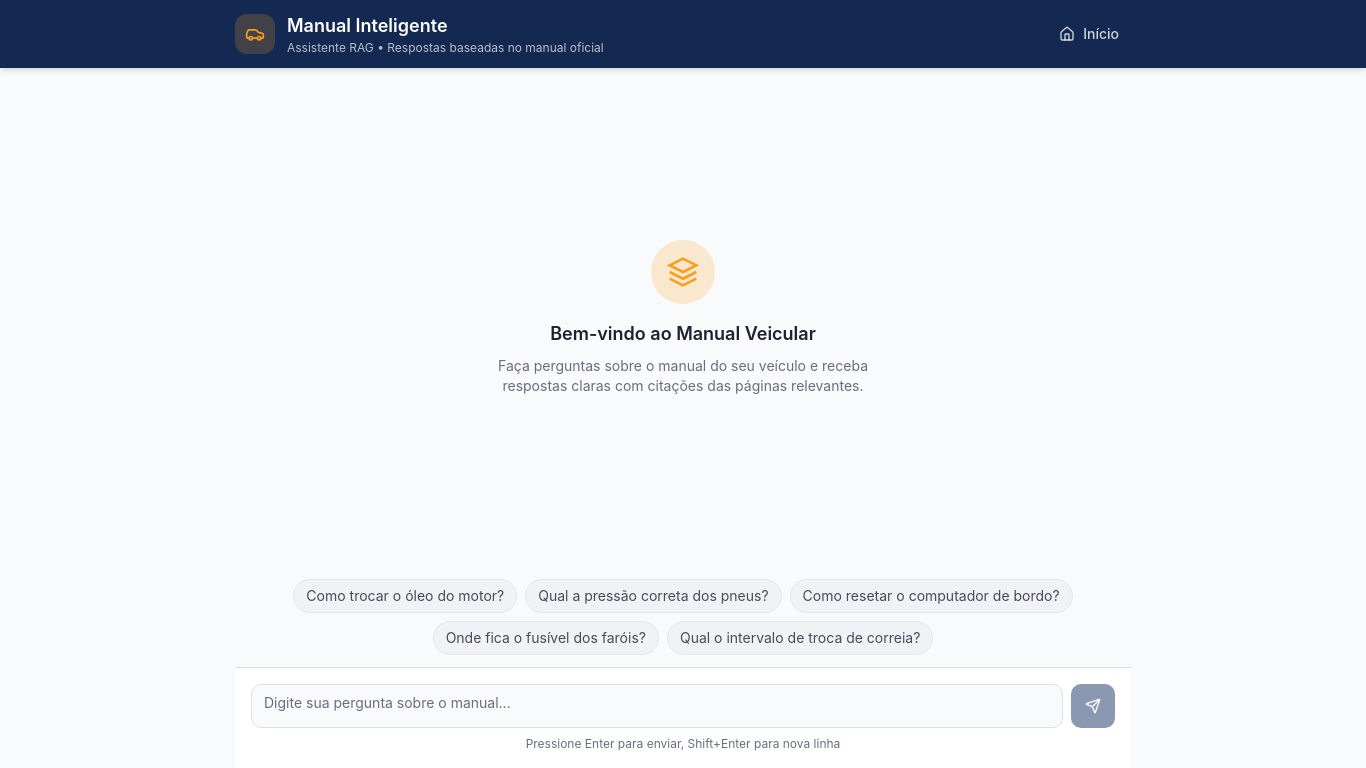
Scenario: ChatPage (integration) › shows error UI when API throws
Type "Qualquer pergunta" into the text box with placeholder "Digite sua pergunta sobre o manual..." at [657, 706], box [251,684,1063,728]
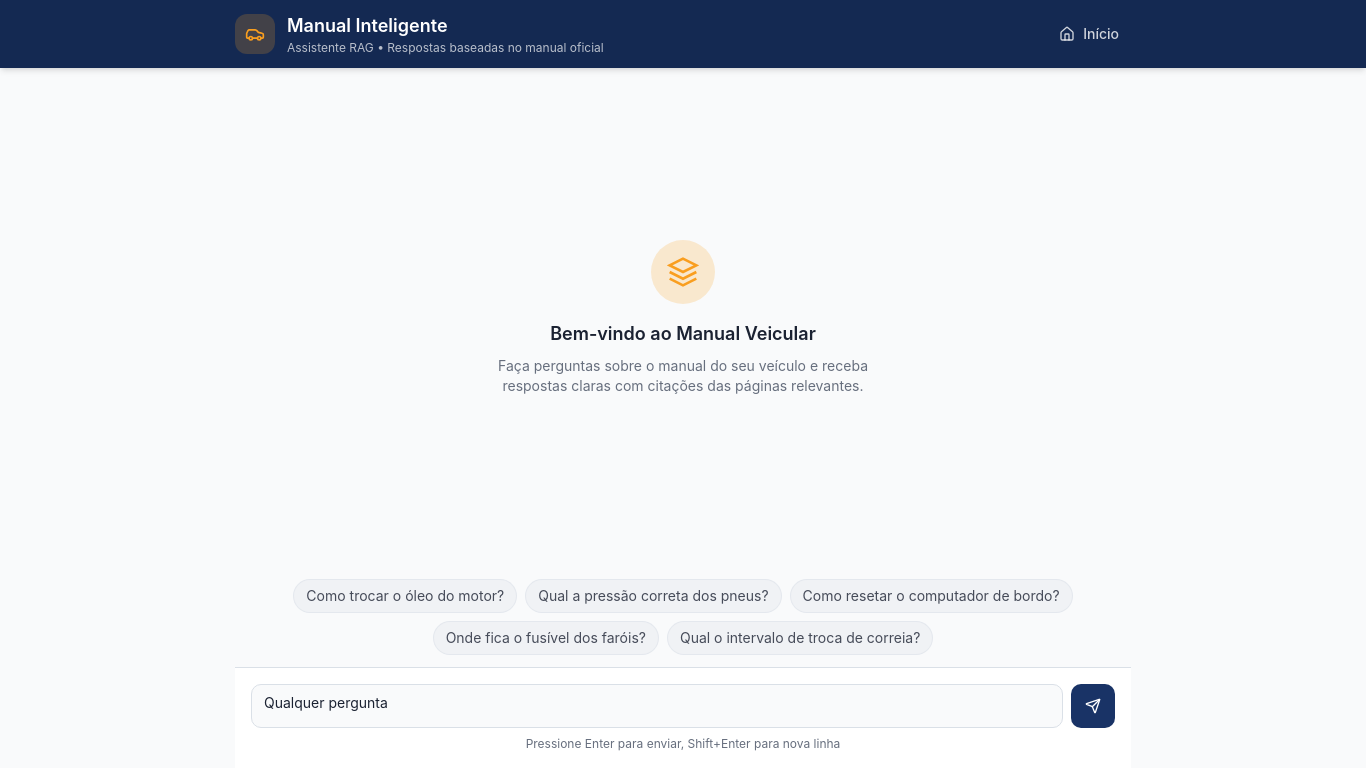
Click the button named "Enviar" at [1093, 706], box [1071,684,1115,728]
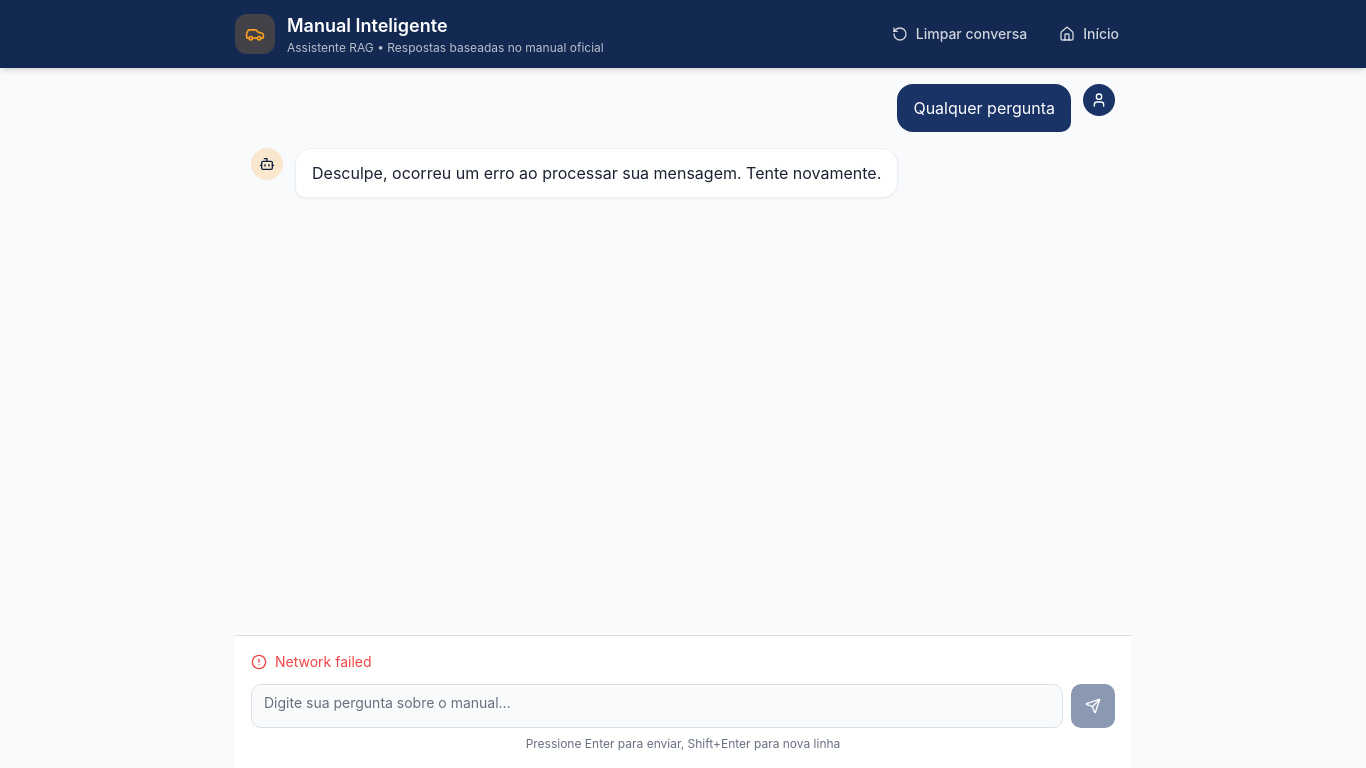
Check: the text "Network failed" is shown, box [275,652,372,672]
Check: the text "Desculpe, ocorreu um erro ao processar sua mensagem" is shown, box [312,163,881,183]
